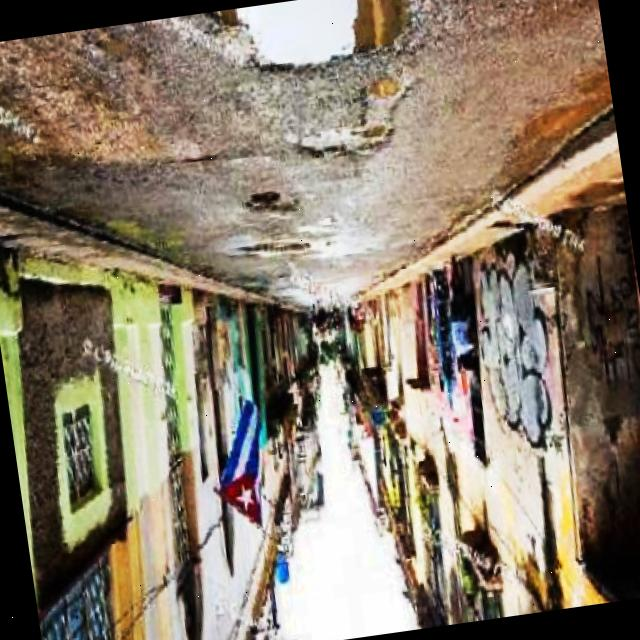pothole: (117, 0, 414, 94), (296, 75, 422, 166), (236, 228, 320, 265), (246, 181, 302, 222)
